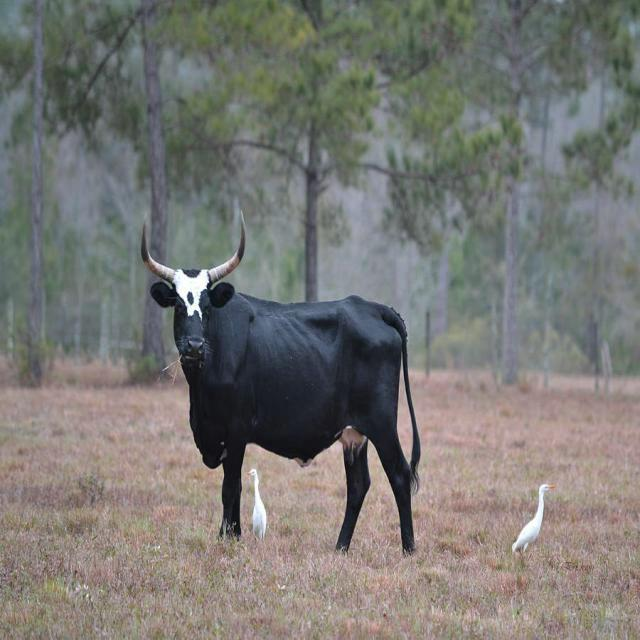cow: (143, 231, 420, 552)
